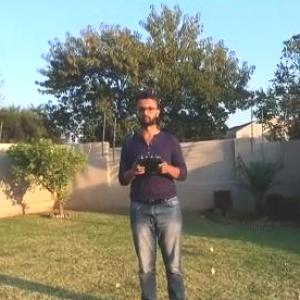follow: (113, 88, 196, 299)
